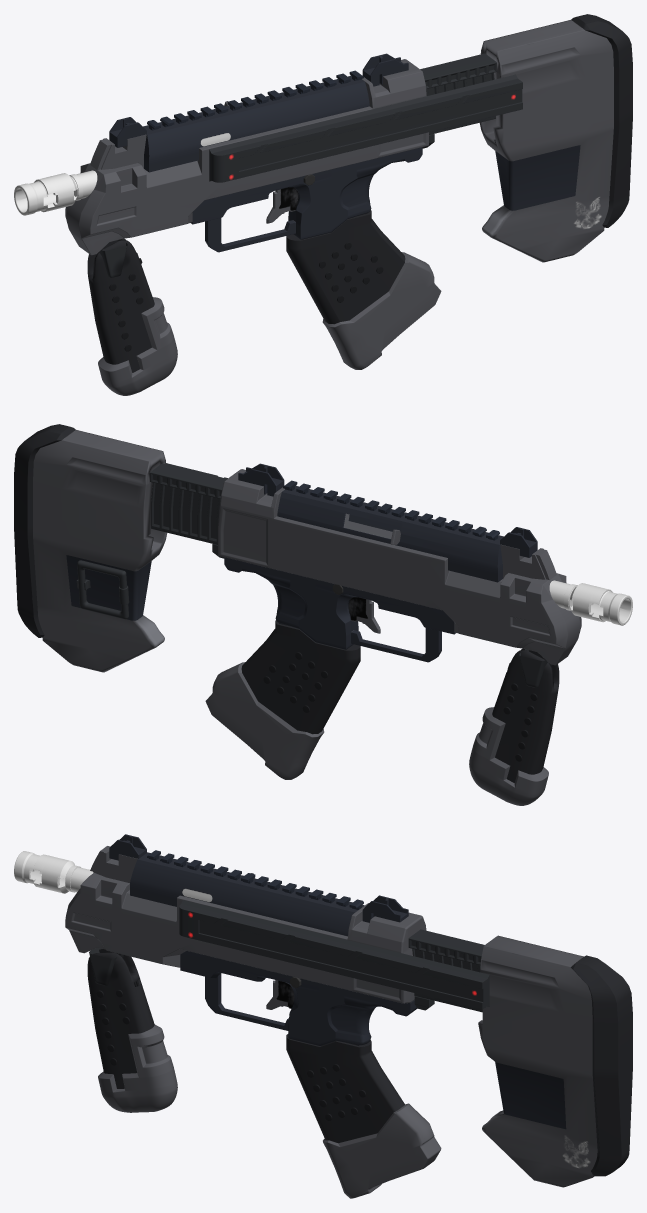
Rendered from SMG.fbx.
The picture shows the model from 3 angles, top to bottom: view 1: azimuth 30°, elevation 25°; view 2: azimuth 150°, elevation 25°; view 3: azimuth 330°, elevation 25°; orthographic projection.
Parts seen in each view (by area): view 1: Butt_LP, Core_Lower_LP, Mag_LP, Trigger_Guard_LP, Grip_Rear_Handle_LP, Core_Upper_LP, Grip_Rear_Metal_LP, Grip_Front_Handle_LP, Butt_End_LP, Grip_Front_Metal_LP, Barrel_LP, Butt_Extender_LP (+7 smaller); view 2: Butt_LP, Core_Lower_LP, Trigger_Guard_LP, Grip_Rear_Handle_LP, Core_Upper_LP, Grip_Rear_Metal_LP, Grip_Front_Handle_LP, Butt_Extender_LP, Butt_End_LP, Grip_Front_Metal_LP, Barrel_LP, Rail_LP (+7 smaller); view 3: Butt_LP, Core_Lower_LP, Mag_LP, Butt_End_LP, Trigger_Guard_LP, Grip_Rear_Handle_LP, Core_Upper_LP, Grip_Rear_Metal_LP, Grip_Front_Handle_LP, Grip_Front_Metal_LP, Butt_Extender_LP, Barrel_LP (+7 smaller).
Part boxes in pixels (x1,y1,x2,y2): Butt_LP: (479, 20, 613, 262); Core_Lower_LP: (65, 59, 428, 255); Mag_LP: (209, 74, 522, 182); Trigger_Guard_LP: (190, 147, 422, 252); Grip_Rear_Handle_LP: (286, 210, 405, 324); Core_Upper_LP: (143, 75, 369, 172); Grip_Rear_Metal_LP: (322, 252, 441, 369); Grip_Front_Handle_LP: (87, 238, 154, 372); Butt_End_LP: (571, 14, 632, 227); Grip_Front_Metal_LP: (98, 297, 177, 395); Barrel_LP: (14, 170, 97, 215); Butt_Extender_LP: (420, 53, 496, 134); Butt_LP: (33, 430, 167, 672); Core_Lower_LP: (218, 469, 581, 665); Trigger_Guard_LP: (224, 557, 456, 662); Grip_Rear_Handle_LP: (241, 620, 360, 734); Core_Upper_LP: (277, 485, 503, 582); Grip_Rear_Metal_LP: (205, 662, 324, 779); Grip_Front_Handle_LP: (492, 648, 559, 782); Butt_Extender_LP: (150, 463, 226, 544); Butt_End_LP: (14, 424, 75, 637); Grip_Front_Metal_LP: (469, 707, 548, 805); Barrel_LP: (549, 580, 632, 625); Rail_LP: (283, 480, 499, 540); Butt_LP: (478, 935, 597, 1187); Core_Lower_LP: (65, 873, 426, 1003); Mag_LP: (179, 900, 489, 1009); Butt_End_LP: (571, 955, 632, 1176); Trigger_Guard_LP: (180, 951, 417, 1046); Grip_Rear_Handle_LP: (286, 1034, 405, 1143); Core_Upper_LP: (130, 852, 364, 936); Grip_Rear_Metal_LP: (323, 1103, 441, 1198); Grip_Front_Handle_LP: (87, 949, 154, 1088); Grip_Front_Metal_LP: (98, 1024, 177, 1112); Butt_Extender_LP: (408, 929, 484, 1012); Barrel_LP: (14, 851, 93, 893).
Size of the model in its own units: 6188 by 2955 by 639.
